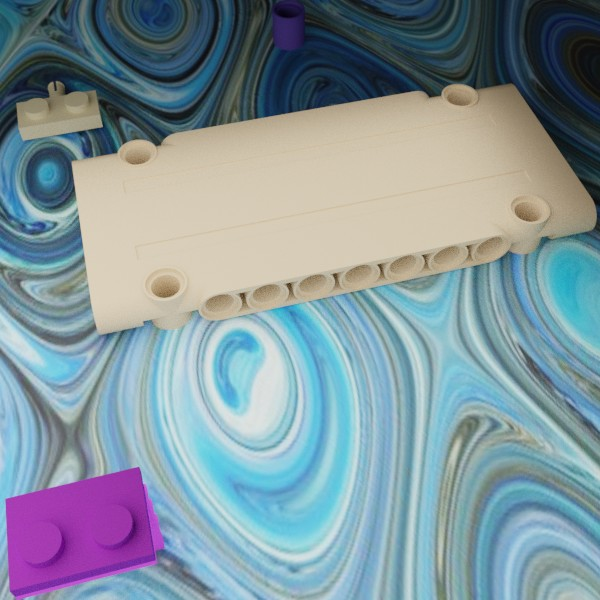lego: (71, 83, 596, 334), (5, 466, 164, 599), (16, 81, 102, 140), (272, 0, 304, 50)
